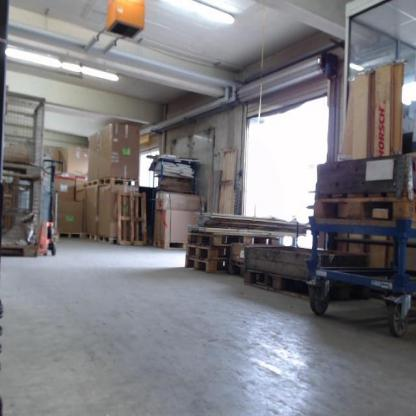pallet: (246, 268, 371, 301), (314, 196, 416, 228), (115, 191, 148, 247), (186, 231, 282, 249), (184, 247, 249, 260), (183, 257, 229, 273), (99, 175, 140, 189), (152, 240, 187, 251), (58, 229, 83, 239), (98, 233, 116, 246), (87, 178, 98, 189), (86, 232, 98, 241)
pallet_truck: (41, 159, 64, 256)
stillage: (2, 85, 46, 173), (1, 167, 41, 258)
